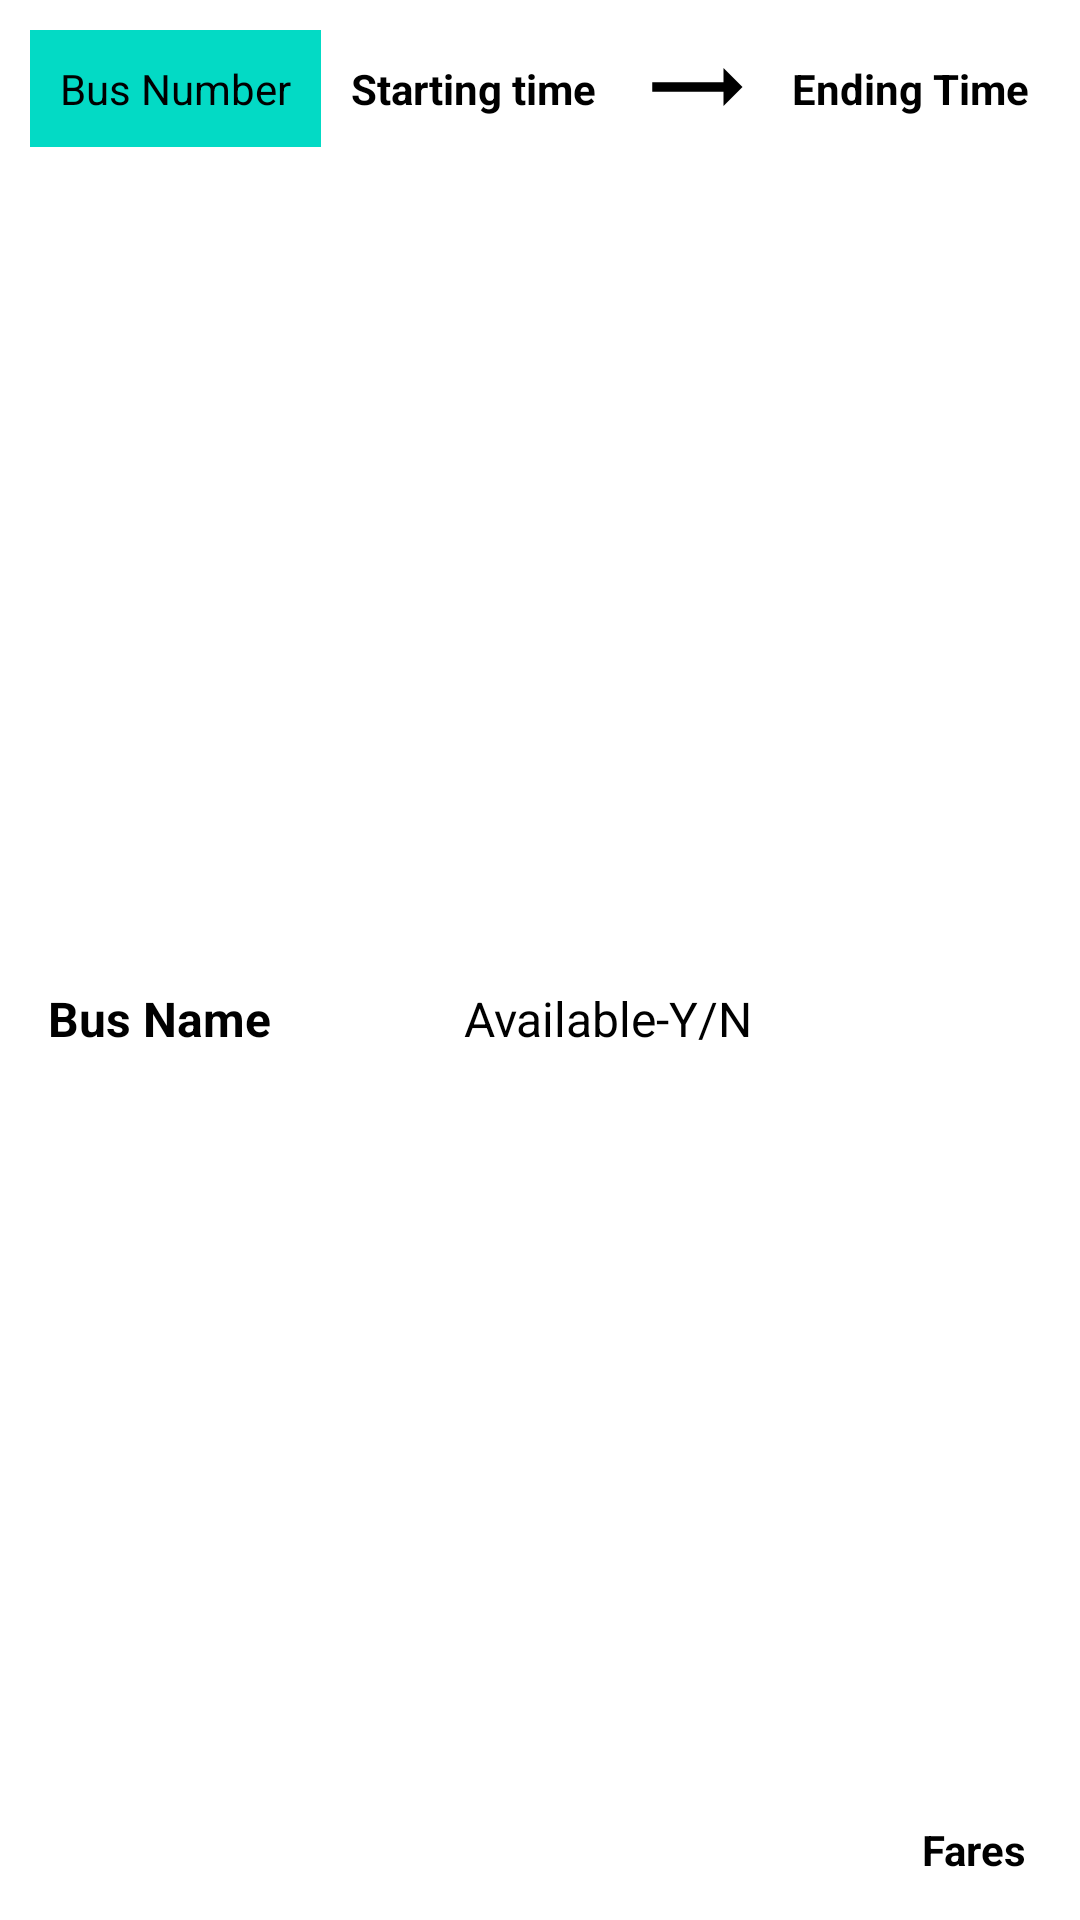

Icon bounding boxes for this 1080x1920 phone screenshot, format (x1, y1, x2, y2):
arrow: (652, 68, 743, 106)
